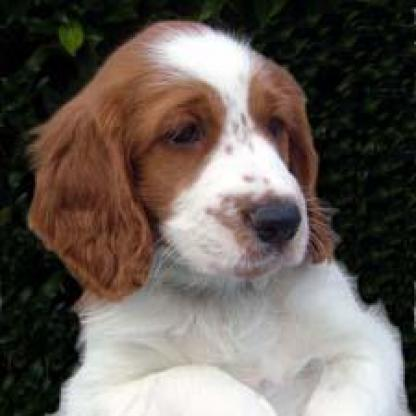Welsh_springer_spaniel: (20, 13, 408, 411)
